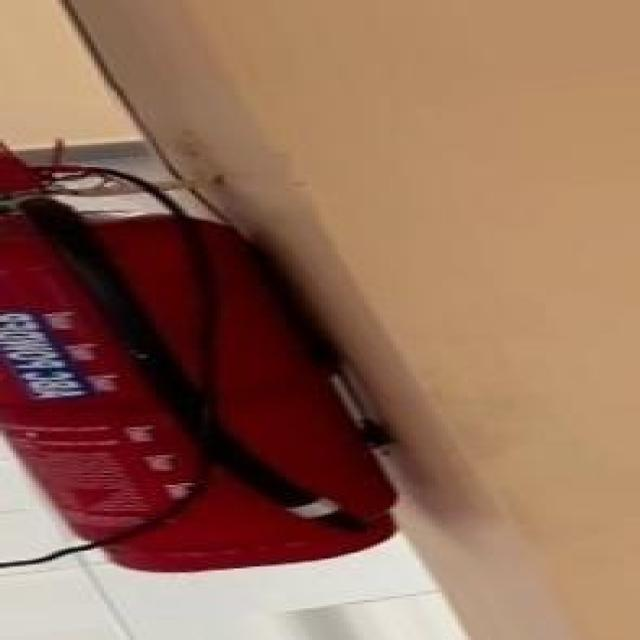fire_extinguisher: (0, 132, 406, 578)
